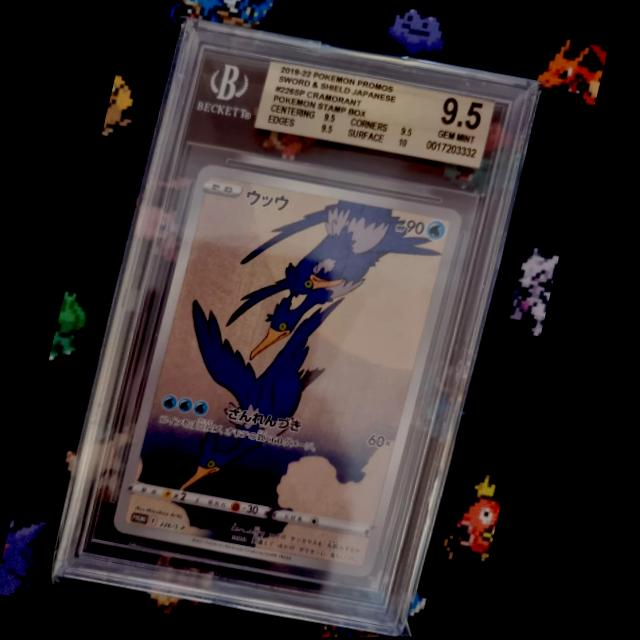bgs_label: (255, 60, 496, 170)
bgs_slab: (58, 16, 541, 637)
card: (116, 162, 466, 580)
